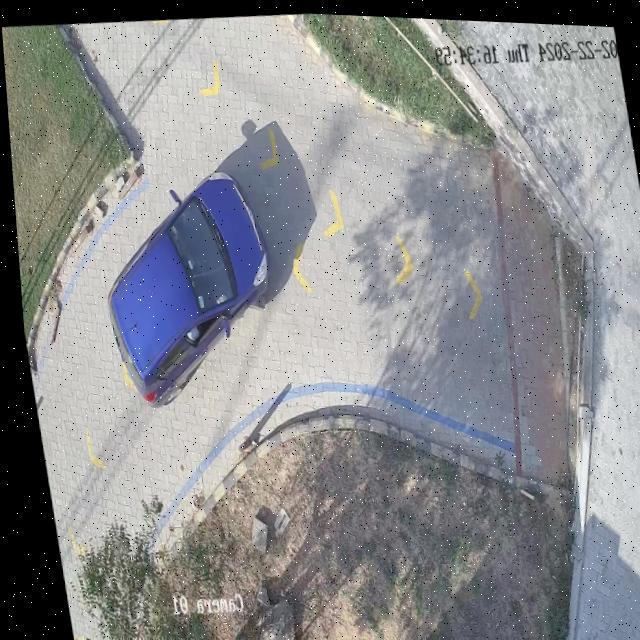car: (102, 169, 266, 407)
